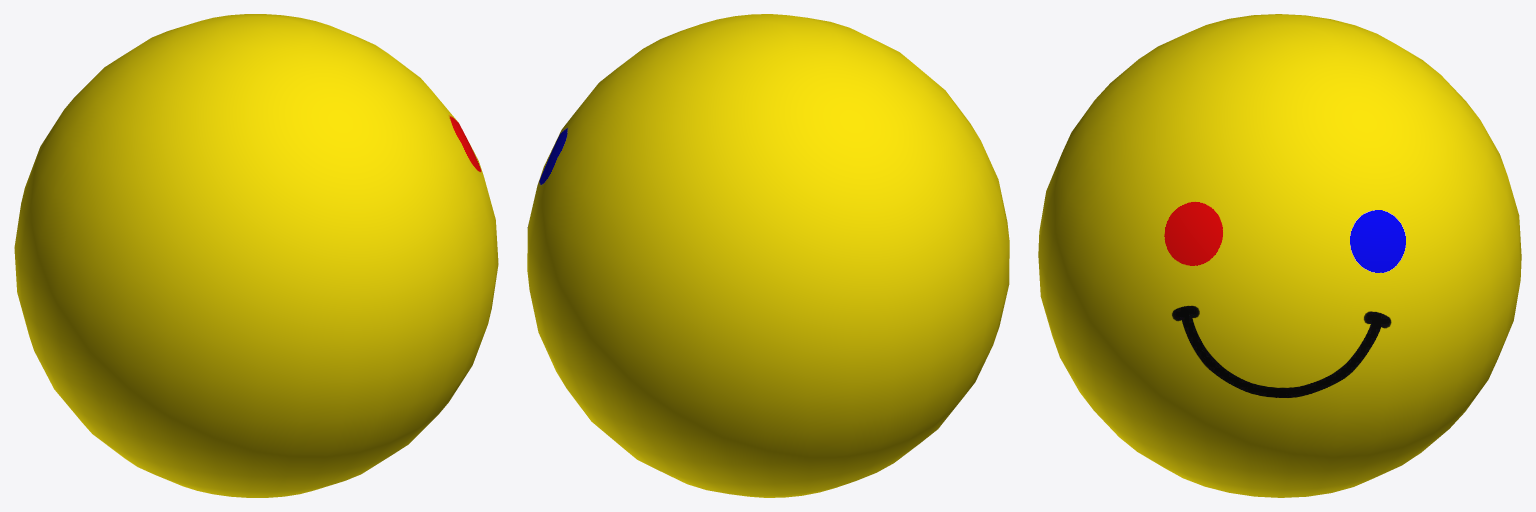
File: smiley.obj
3 views of the same model, side by side, from view 1: azimuth 30°, elevation 25°; view 2: azimuth 150°, elevation 25°; view 3: azimuth 270°, elevation 25° (orthographic).
Parts seen in each view (by area): view 1: Sphere; view 2: Sphere; view 3: Sphere.
Part boxes in pixels (box(x1,y1,x2,y2)): Sphere: box(14, 14, 498, 497); Sphere: box(527, 14, 1009, 497); Sphere: box(1038, 14, 1521, 497).
Bounding box in the file's own units: 0.1197 × 0.12 × 0.12.
1 material, 1 textured.
